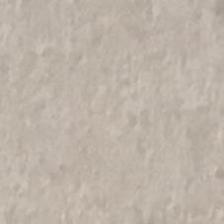Non_Crack: (6, 29, 209, 202)
